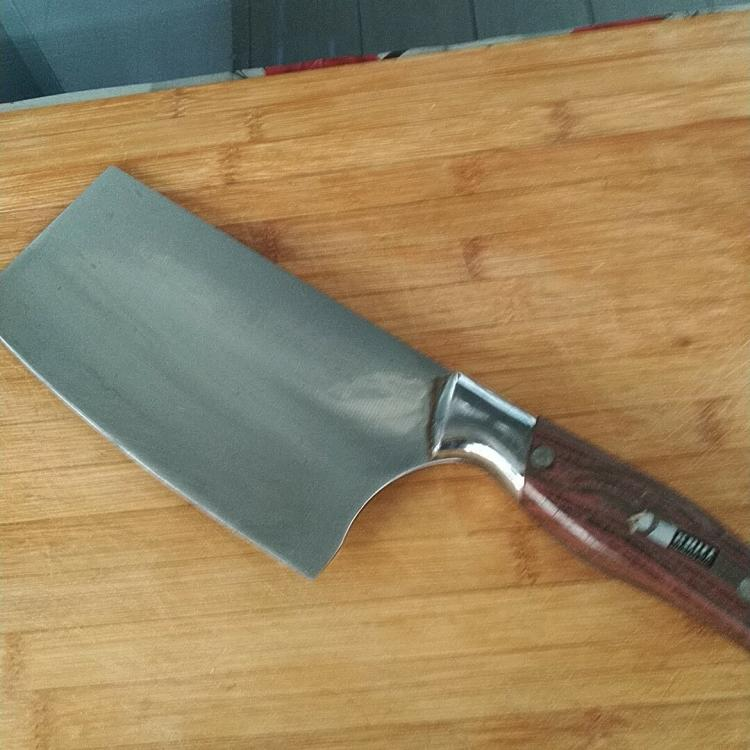knief: (26, 150, 732, 645)
